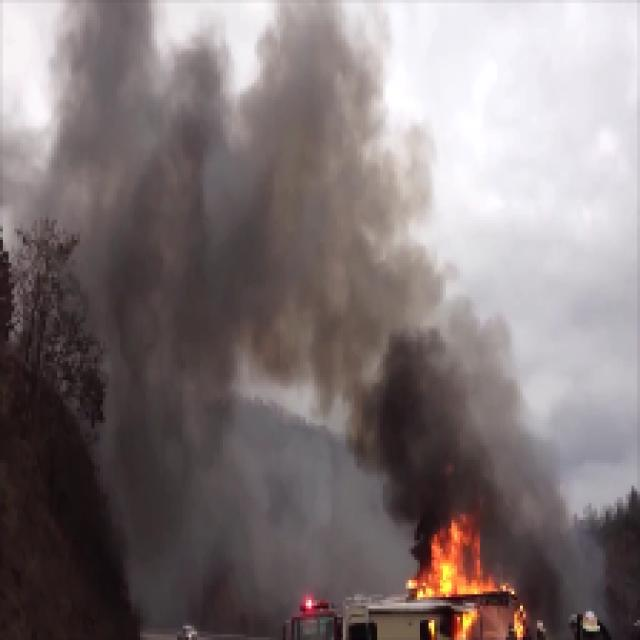fire: (426, 527, 495, 603)
smoke: (59, 4, 390, 429), (396, 297, 534, 507), (526, 516, 605, 604)
